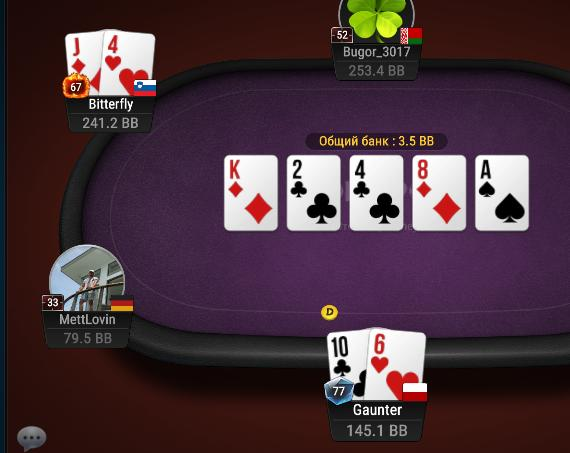10c: (324, 331, 370, 399)
2c: (287, 156, 341, 230)
4c: (350, 155, 402, 229)
4h: (101, 28, 154, 94)
6h: (368, 328, 427, 397)
8d: (413, 156, 465, 231)
As: (476, 155, 529, 231)
Jd: (63, 32, 102, 95)
Kd: (224, 156, 276, 230)
